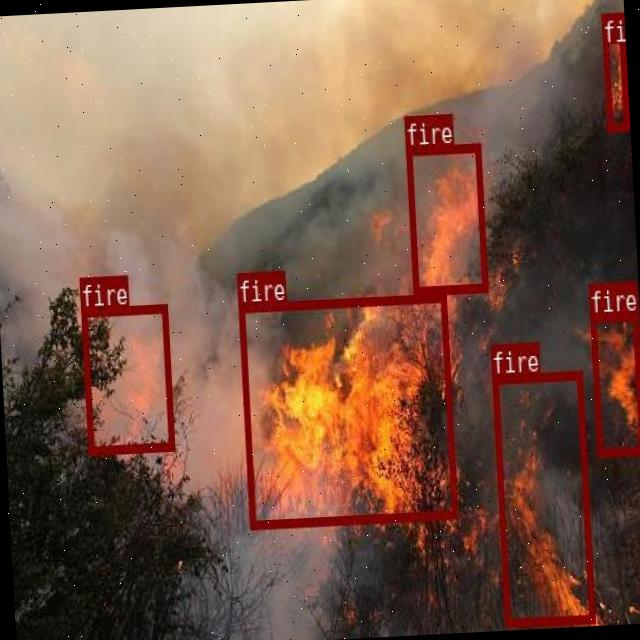fire: (238, 291, 457, 528), (491, 369, 594, 626), (81, 303, 174, 453), (405, 142, 487, 294), (590, 311, 640, 455), (600, 13, 628, 129)
